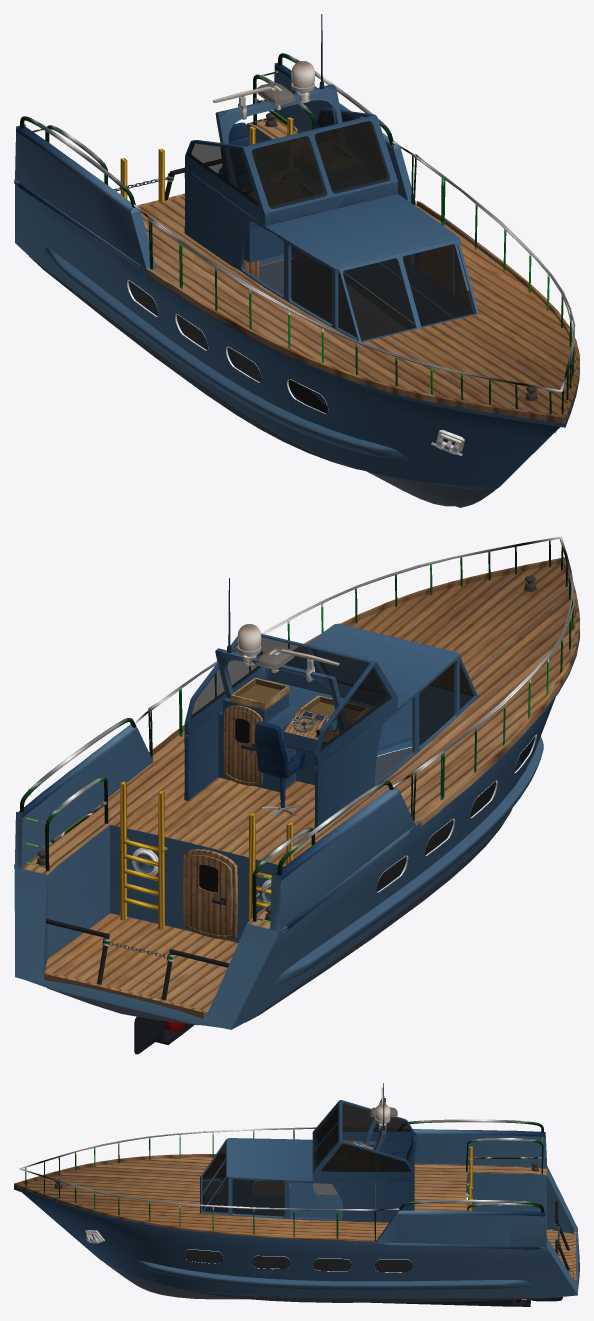
Rendered from boat-bow-raider.glb.
3 views of the same model, one above another, from view 1: azimuth 30°, elevation 25°; view 2: azimuth 150°, elevation 25°; view 3: azimuth 270°, elevation 25° (orthographic). The views are drawn at different scales.
Visible parts, largest first — view 1: Object_27, Object_23, Object_14, Object_26, Object_7, Object_28, Object_38, Object_22; view 2: Object_23, Object_27, Object_26, Object_14, Object_28, Object_7, Object_22, Object_19, Object_38, Object_24, Object_35, Object_33; view 3: Object_27, Object_23, Object_26, Object_14, Object_7, Object_28, Object_24, Object_38.
Boxes of the visible parts, <box> form: Object_27: <box>14,62,579,490</box>; Object_23: <box>133,118,579,423</box>; Object_14: <box>128,111,479,413</box>; Object_26: <box>184,108,478,342</box>; Object_7: <box>29,254,494,507</box>; Object_28: <box>20,53,575,414</box>; Object_38: <box>213,61,314,119</box>; Object_22: <box>120,117,293,259</box>; Object_23: <box>22,557,579,1018</box>; Object_27: <box>14,598,579,1029</box>; Object_26: <box>184,623,478,832</box>; Object_14: <box>131,637,535,891</box>; Object_28: <box>20,536,574,1000</box>; Object_7: <box>45,745,512,1025</box>; Object_22: <box>120,781,293,929</box>; Object_19: <box>230,677,369,725</box>; Object_38: <box>237,624,339,682</box>; Object_24: <box>134,985,194,1054</box>; Object_35: <box>129,734,536,903</box>; Object_33: <box>199,718,249,891</box>; Object_27: <box>14,1098,578,1297</box>; Object_23: <box>14,1140,576,1283</box>; Object_26: <box>200,1100,414,1222</box>; Object_14: <box>184,1104,412,1271</box>; Object_7: <box>106,1230,579,1302</box>; Object_28: <box>19,1119,569,1270</box>; Object_24: <box>258,1296,562,1306</box>; Object_38: <box>369,1087,397,1129</box>.
Size of the model in its own units: 5.91 by 7.61 by 16.57.
32 materials, 31 textured.
